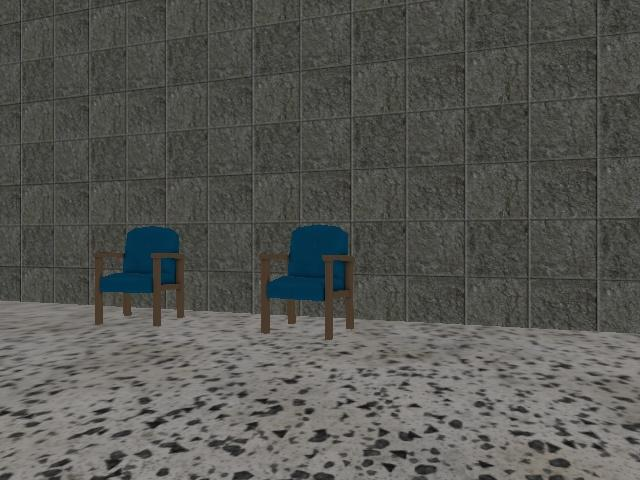chair: (259, 225, 355, 340), (92, 226, 186, 327)
